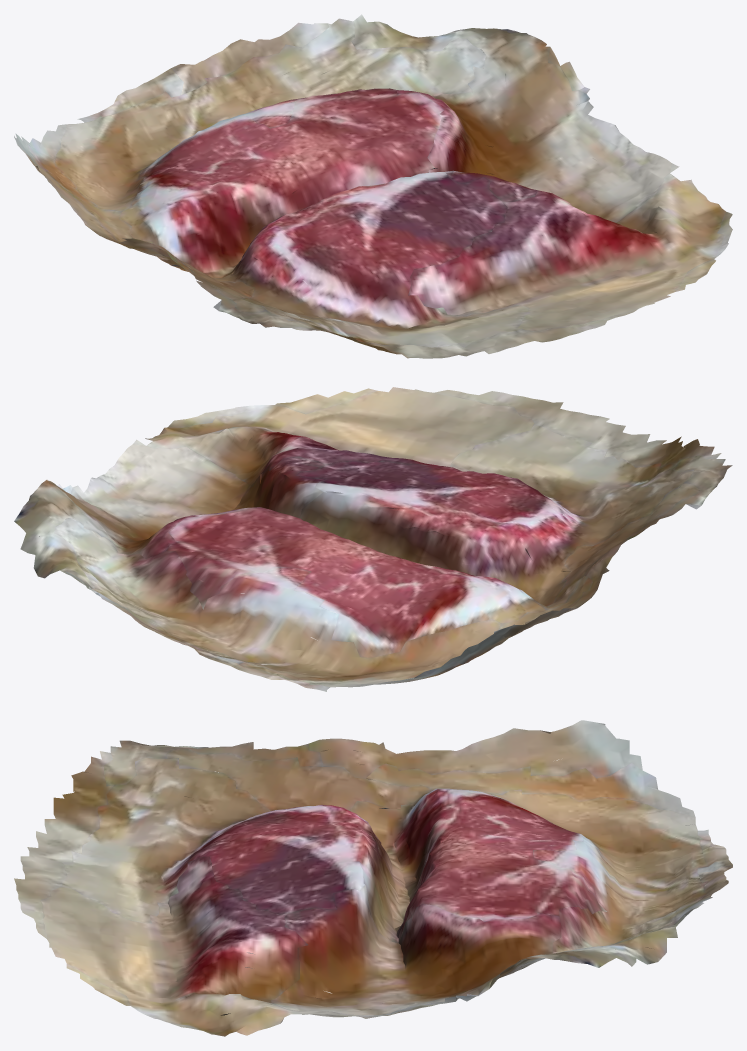
Rendered from x_carne_eataly_steak_scanned_wit.glb.
3 renders of one model, top to bottom at view 1: azimuth 30°, elevation 25°; view 2: azimuth 150°, elevation 25°; view 3: azimuth 270°, elevation 25°, orthographic.
Parts seen in each view (by area): view 1: Object_2; view 2: Object_2; view 3: Object_2.
Part boxes in pixels (x1,y1,x2,y2): Object_2: (14, 14, 732, 358); Object_2: (14, 387, 732, 691); Object_2: (14, 720, 732, 1036).
Bounding box in the file's own units: 0.2194 × 0.0334 × 0.26.
1 material, 1 textured.
